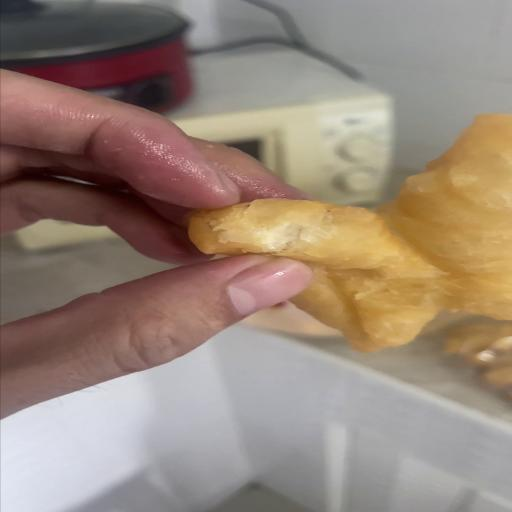street_golden_good: (191, 112, 512, 352)
